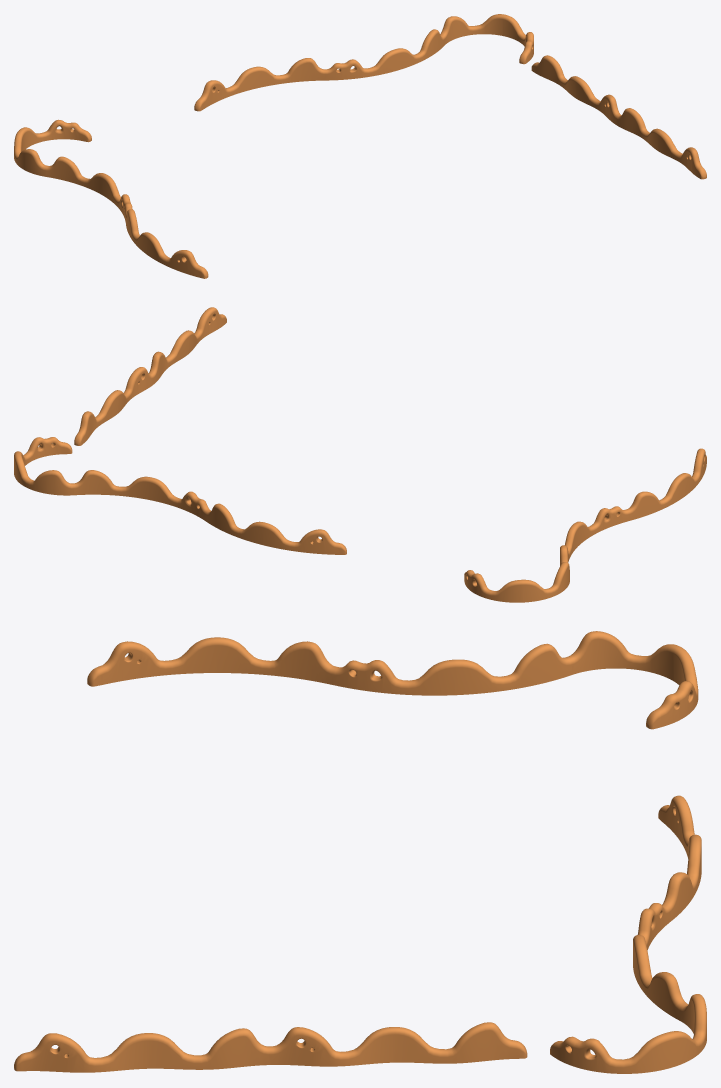
File: e3_walls.fbx
The picture shows the model from 3 angles, top to bottom: view 1: azimuth 30°, elevation 25°; view 2: azimuth 150°, elevation 25°; view 3: azimuth 270°, elevation 25°; orthographic projection. The views are drawn at different scales.
Parts seen in each view (by area): view 1: wall_end_023, wall_end_024, shopping_pier_wall_010; view 2: wall_end_023, wall_end_024, shopping_pier_wall_010; view 3: wall_end_024, shopping_pier_wall_010, wall_end_023.
Part boxes in pixels (<box>): wall_end_023: <box>194,14,533,111</box>; wall_end_024: <box>14,119,208,278</box>; shopping_pier_wall_010: <box>531,55,706,179</box>; wall_end_023: <box>14,437,346,554</box>; wall_end_024: <box>464,448,706,602</box>; shopping_pier_wall_010: <box>74,307,226,445</box>; wall_end_024: <box>87,631,698,729</box>; shopping_pier_wall_010: <box>14,1022,527,1072</box>; wall_end_023: <box>550,795,706,1073</box>.
Size of the model in its own units: 7927 by 322 by 5653.
